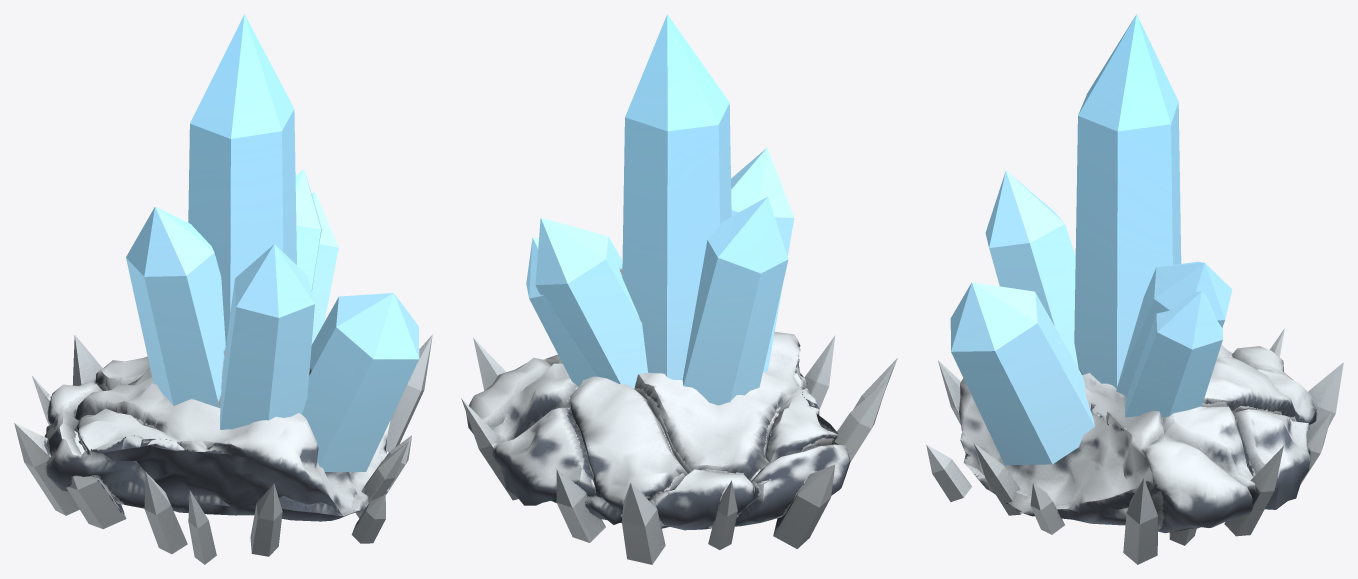
File: cristal_hielo_eterno.fbx
3 views of the same model, side by side, from view 1: azimuth 30°, elevation 25°; view 2: azimuth 150°, elevation 25°; view 3: azimuth 270°, elevation 25° (orthographic).
Parts seen in each view (by area): view 1: cristal_hielo_eterno_cristal, cristal_hielo_eterno; view 2: cristal_hielo_eterno_cristal, cristal_hielo_eterno; view 3: cristal_hielo_eterno_cristal, cristal_hielo_eterno.
Boxes of the visible parts, left/top/right/bottom form: cristal_hielo_eterno_cristal: left=126, top=14, right=419, bottom=471; cristal_hielo_eterno: left=14, top=334, right=432, bottom=564; cristal_hielo_eterno_cristal: left=526, top=14, right=794, bottom=405; cristal_hielo_eterno: left=461, top=332, right=897, bottom=564; cristal_hielo_eterno_cristal: left=950, top=14, right=1232, bottom=465; cristal_hielo_eterno: left=926, top=329, right=1343, bottom=564.
Size of the model in its own units: 2.8 by 3.27 by 2.58.
Materials: 2 (2 with a texture image).
